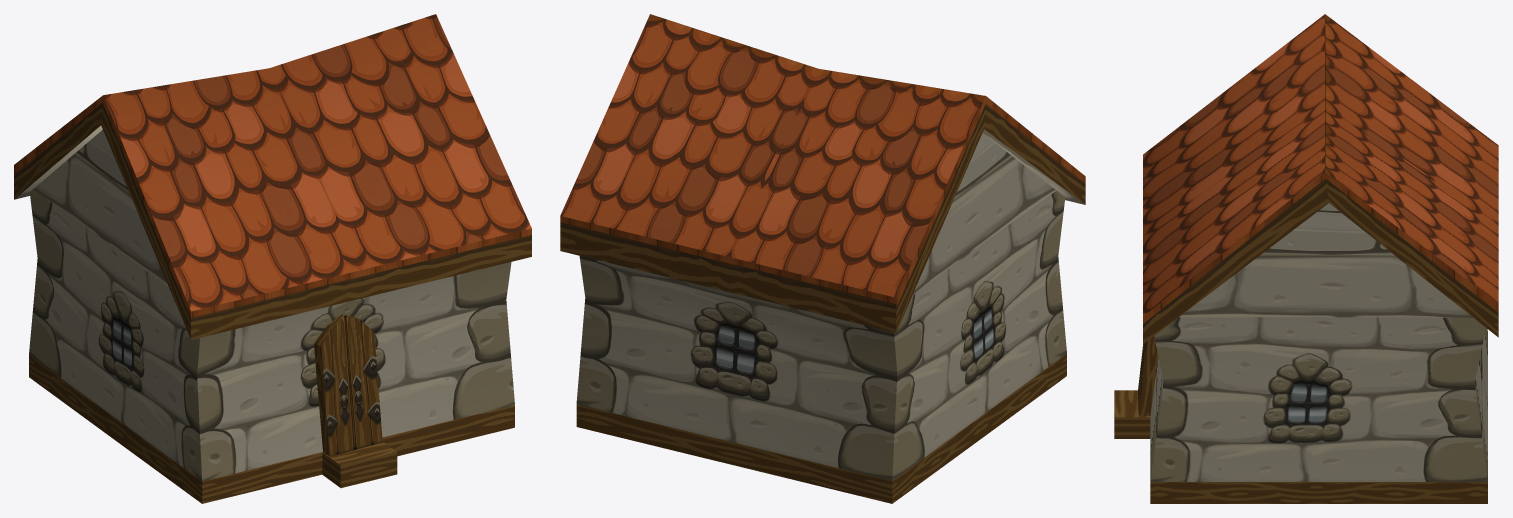
File: house_01.fbx
The picture shows the model from 3 angles, left to right: view 1: azimuth 30°, elevation 25°; view 2: azimuth 150°, elevation 25°; view 3: azimuth 270°, elevation 25°; orthographic projection. The views are drawn at different scales.
Visible parts, largest first — view 1: polySurface2; view 2: polySurface2; view 3: polySurface2.
Part boxes in pixels (x1,y1,x2,y2): polySurface2: [14, 14, 531, 503]; polySurface2: [560, 14, 1085, 503]; polySurface2: [1114, 14, 1498, 503].
Bounding box in the file's own units: 768 × 744 × 770.
1 material, 1 textured.
